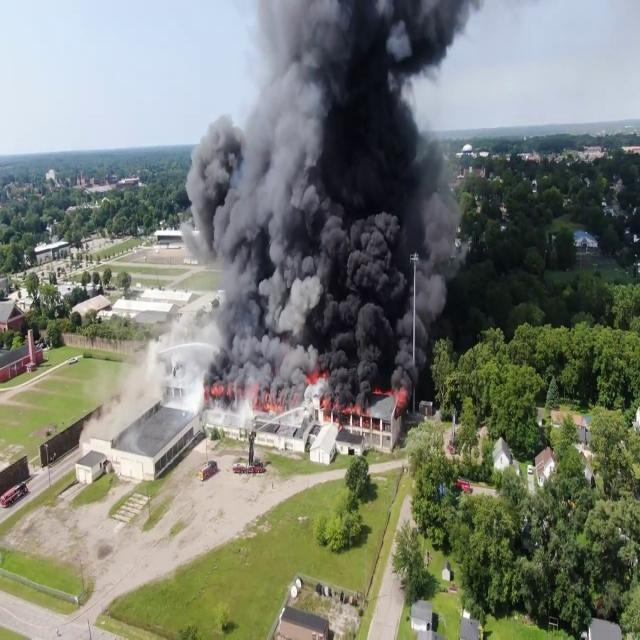Smoke: (176, 0, 498, 385)
